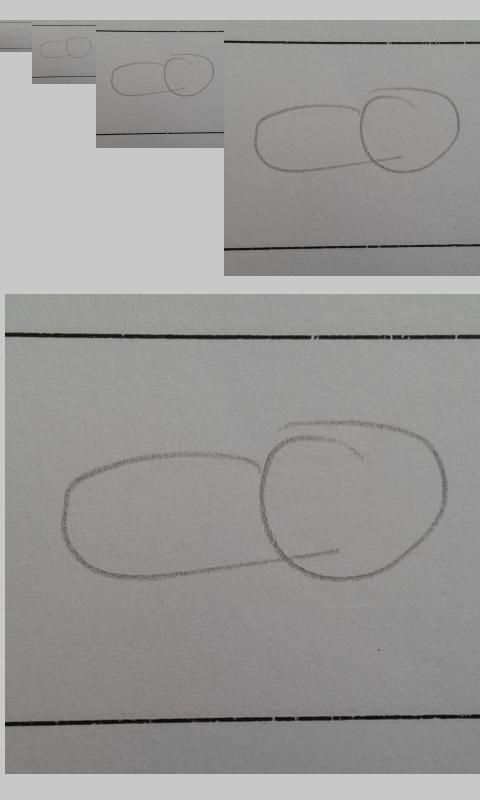switch: (61, 419, 450, 583), (253, 86, 461, 174), (111, 53, 215, 97), (39, 36, 93, 59), (2, 27, 32, 41)
